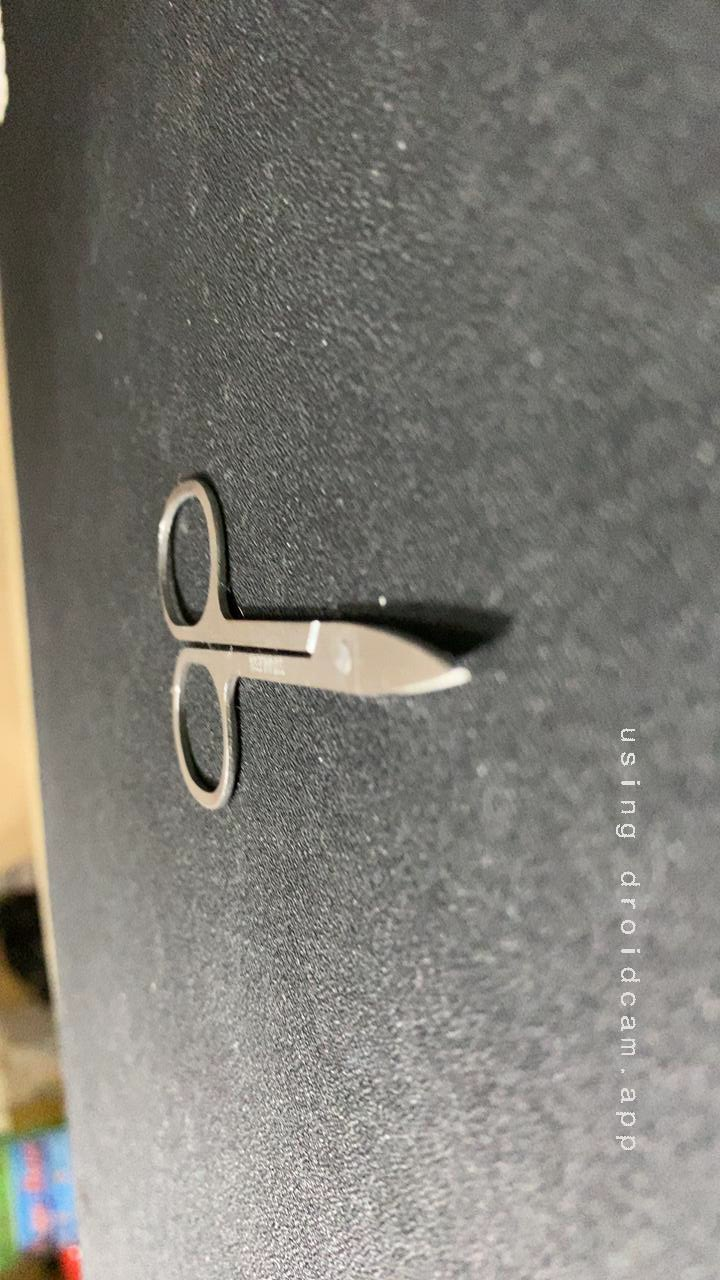scissor: (0, 443, 488, 831)
